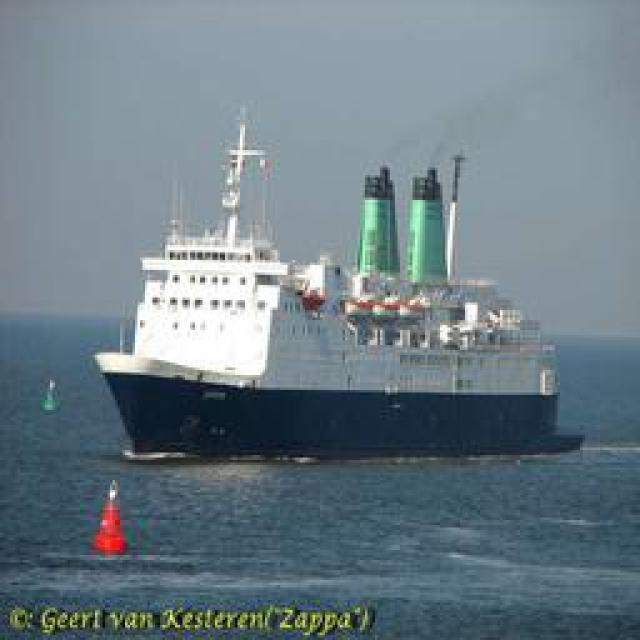Ship: (100, 96, 558, 456)
